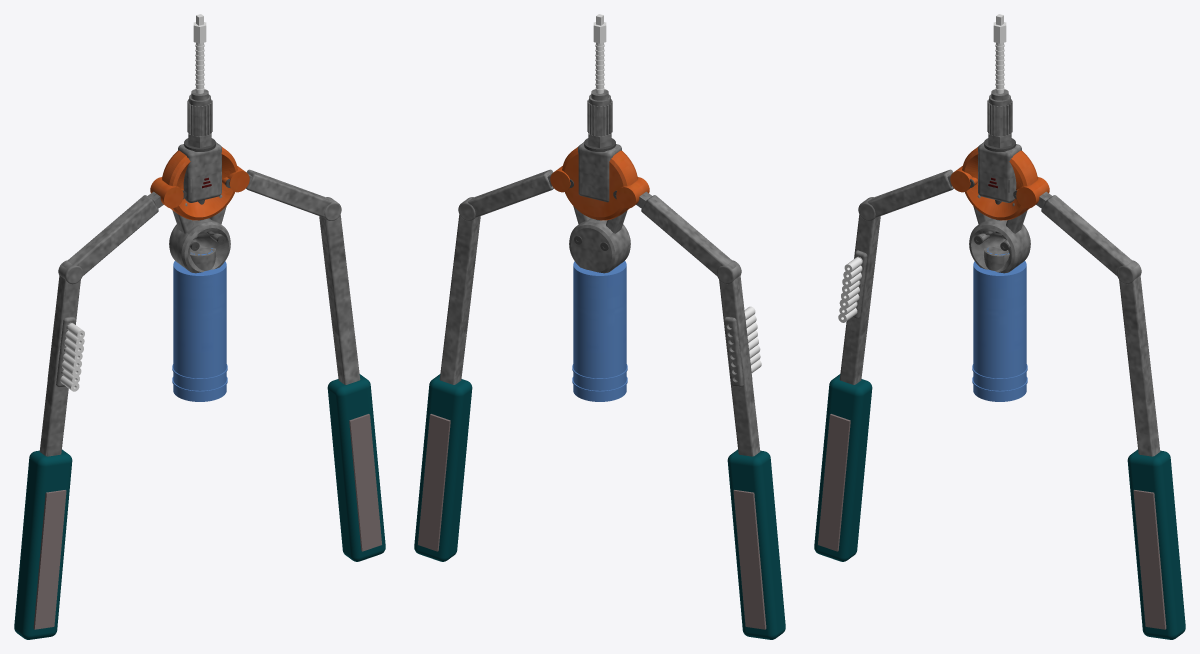
Rendered from rivet_squeeze1__0150.glb.
3 renders of one model, left to right at view 1: azimuth 30°, elevation 25°; view 2: azimuth 150°, elevation 25°; view 3: azimuth 330°, elevation 25°, orthographic.
Visible parts, largest first — view 1: head::collection_bottle, handle_0::metal_arm, handle_1::metal_arm, handle_0::grip_core, handle_1::grip_core, head::red_head_body, handle_0::grip_overmold, handle_1::grip_overmold, head::lower_housing, head::head_spine, head::knurled_collar, head::mandrel_tip; view 2: head::collection_bottle, handle_0::metal_arm, handle_1::metal_arm, handle_0::grip_core, handle_1::grip_core, head::red_head_body, handle_0::grip_overmold_back, handle_1::grip_overmold_back, head::lower_housing, head::head_spine, head::knurled_collar, handle_0::spare_tip_magazine (+1 smaller); view 3: head::collection_bottle, handle_1::metal_arm, handle_1::grip_core, handle_0::grip_core, handle_0::metal_arm, head::red_head_body, handle_1::grip_overmold, handle_0::grip_overmold, head::lower_housing, head::head_spine, head::knurled_collar, head::mandrel_tip.
Boxes of the visible parts, x1,y1,x2,y2 form: head::collection_bottle: [172, 248, 227, 401]; handle_0::metal_arm: [39, 195, 158, 456]; handle_1::metal_arm: [246, 169, 360, 384]; handle_0::grip_core: [14, 449, 72, 639]; handle_1::grip_core: [327, 374, 385, 561]; head::red_head_body: [150, 146, 249, 220]; handle_0::grip_overmold: [33, 490, 66, 629]; handle_1::grip_overmold: [349, 414, 381, 551]; head::lower_housing: [169, 218, 230, 273]; head::head_spine: [178, 142, 221, 202]; head::knurled_collar: [187, 89, 212, 136]; head::mandrel_tip: [193, 14, 206, 93]; head::collection_bottle: [572, 261, 627, 401]; handle_0::metal_arm: [641, 195, 760, 456]; handle_1::metal_arm: [439, 169, 553, 384]; handle_0::grip_core: [727, 449, 785, 639]; handle_1::grip_core: [414, 374, 472, 561]; head::red_head_body: [550, 146, 649, 220]; handle_0::grip_overmold_back: [733, 490, 766, 629]; handle_1::grip_overmold_back: [418, 414, 450, 551]; head::lower_housing: [569, 218, 630, 273]; head::head_spine: [578, 142, 621, 202]; head::knurled_collar: [587, 89, 612, 136]; handle_0::spare_tip_magazine: [724, 317, 752, 387]; head::collection_bottle: [972, 247, 1027, 401]; handle_1::metal_arm: [1041, 195, 1160, 456]; handle_1::grip_core: [1127, 449, 1185, 639]; handle_0::grip_core: [814, 374, 872, 561]; handle_0::metal_arm: [839, 169, 953, 384]; head::red_head_body: [950, 146, 1049, 220]; handle_1::grip_overmold: [1133, 490, 1166, 629]; handle_0::grip_overmold: [818, 414, 850, 551]; head::lower_housing: [969, 218, 1030, 273]; head::head_spine: [978, 142, 1021, 202]; head::knurled_collar: [987, 89, 1012, 136]; head::mandrel_tip: [993, 14, 1006, 93].
Size of the model in its own units: 0.5503 by 0.8415 by 0.0795.
Materials: 8 (5 with a texture image).
